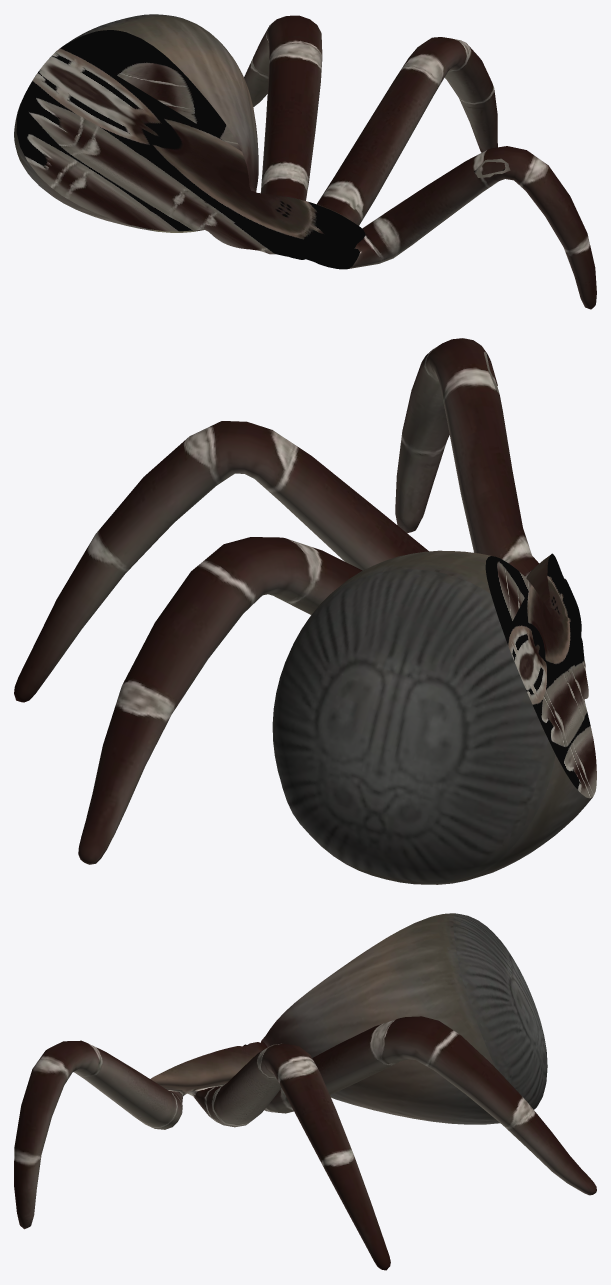
The model's file is spider3back-compressed.glb.
The picture shows the model from 3 angles, top to bottom: view 1: azimuth 30°, elevation 25°; view 2: azimuth 150°, elevation 25°; view 3: azimuth 270°, elevation 25°; orthographic projection. The views are drawn at different scales.
Visible parts, largest first — view 1: Spider_0_cell.003; view 2: Spider_0_cell.003; view 3: Spider_0_cell.003.
Part boxes in pixels (x1,y1,x2,y2): Spider_0_cell.003: [14, 14, 596, 309]; Spider_0_cell.003: [14, 338, 596, 884]; Spider_0_cell.003: [14, 913, 596, 1270].
Bounding box in the file's own units: 1.09 × 0.4673 × 1.3.
Materials: 1 (1 with a texture image).
